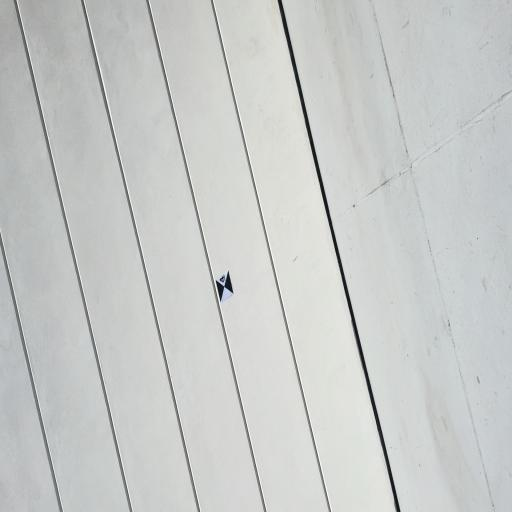target4: (216, 271, 234, 303)
